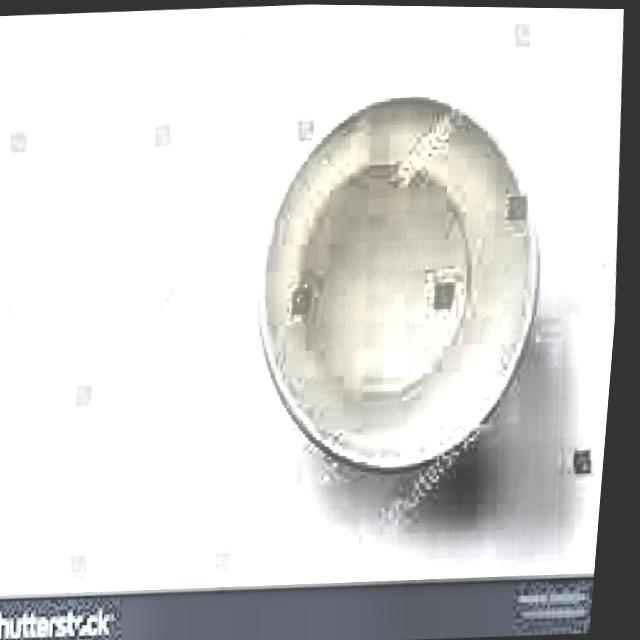Cup: (233, 71, 580, 503)
